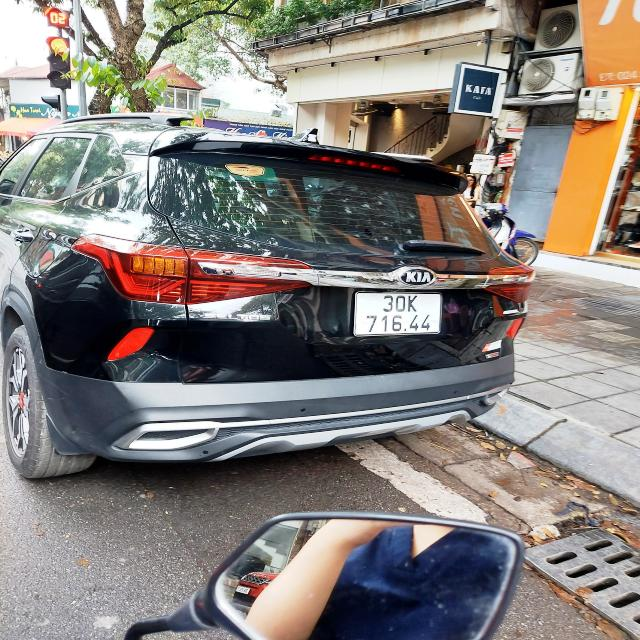license_plate: (349, 288, 446, 342)
